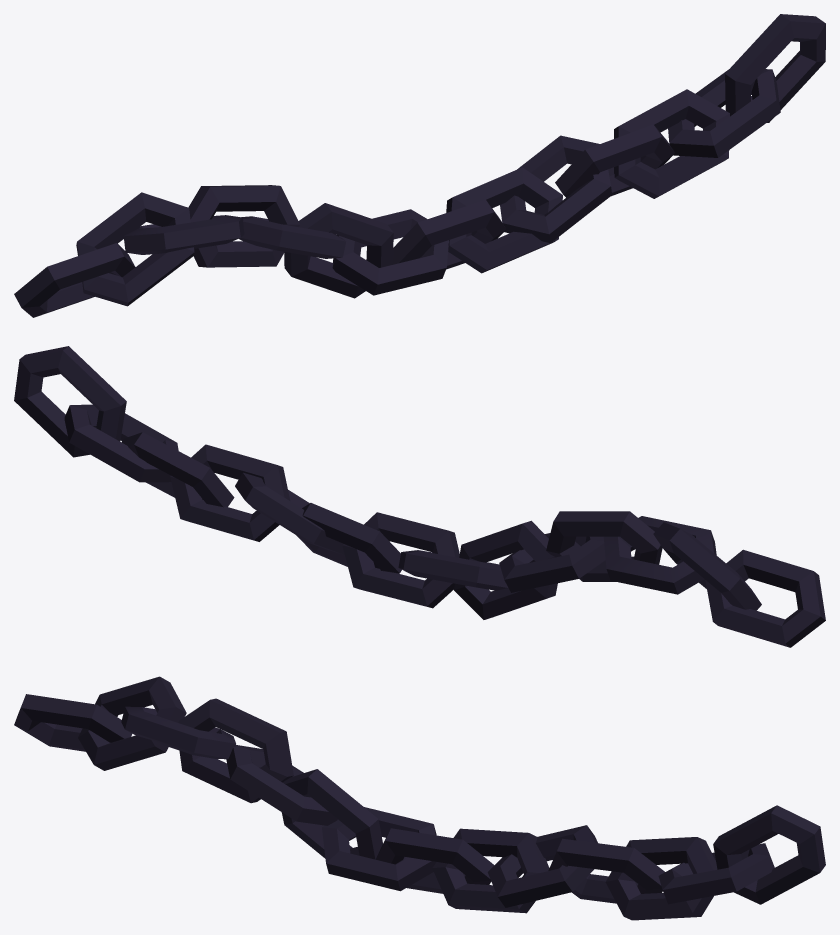
The model's file is MDungeon_Chain_Straight_03.FBX.
The picture shows the model from 3 angles, top to bottom: view 1: azimuth 30°, elevation 25°; view 2: azimuth 150°, elevation 25°; view 3: azimuth 330°, elevation 25°; orthographic projection. The views are drawn at different scales.
Visible parts, largest first — view 1: MDungeon_Chain_Straight_03_LOD0; view 2: MDungeon_Chain_Straight_03_LOD0; view 3: MDungeon_Chain_Straight_03_LOD0.
Part boxes in pixels (x1,y1,x2,y2): MDungeon_Chain_Straight_03_LOD0: (14, 14, 825, 317); MDungeon_Chain_Straight_03_LOD0: (14, 346, 825, 647); MDungeon_Chain_Straight_03_LOD0: (14, 676, 825, 920).
Size of what is drawn, in the model's own units: 2.01 by 0.4119 by 0.2104.
